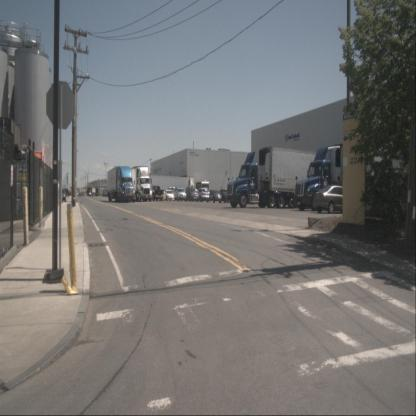vehicle-car: (312, 185, 354, 214), (185, 186, 199, 202), (207, 189, 222, 203), (195, 188, 210, 202), (217, 189, 231, 203), (164, 190, 174, 201), (58, 189, 66, 202), (102, 187, 110, 196)
vehicle-truck: (295, 147, 331, 211), (226, 152, 258, 208), (117, 166, 135, 202), (137, 166, 152, 202), (148, 186, 166, 201), (172, 188, 187, 201), (86, 188, 92, 197)
